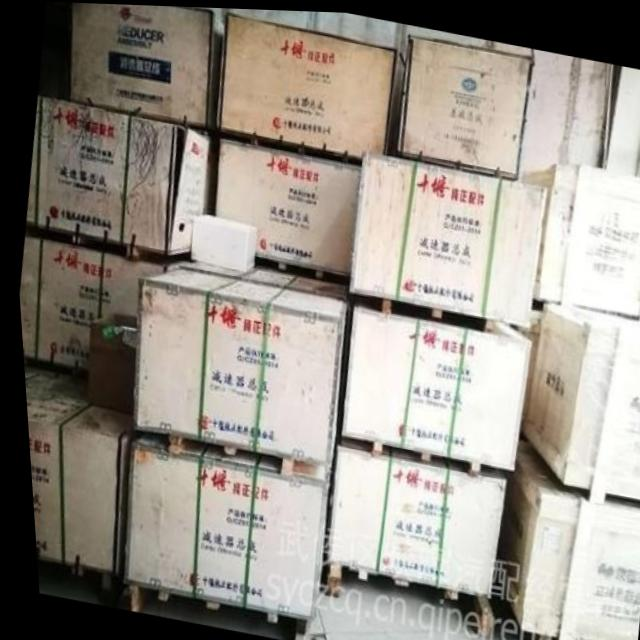box: (128, 261, 343, 467), (115, 434, 323, 619), (345, 148, 545, 324), (488, 430, 640, 640), (335, 304, 527, 468), (23, 97, 215, 254), (320, 440, 499, 595), (214, 10, 403, 156), (516, 298, 640, 498), (16, 236, 187, 370), (19, 360, 126, 571), (66, 2, 219, 131), (212, 139, 358, 273), (395, 33, 531, 175), (521, 160, 640, 313), (79, 311, 133, 413), (186, 214, 254, 269)
